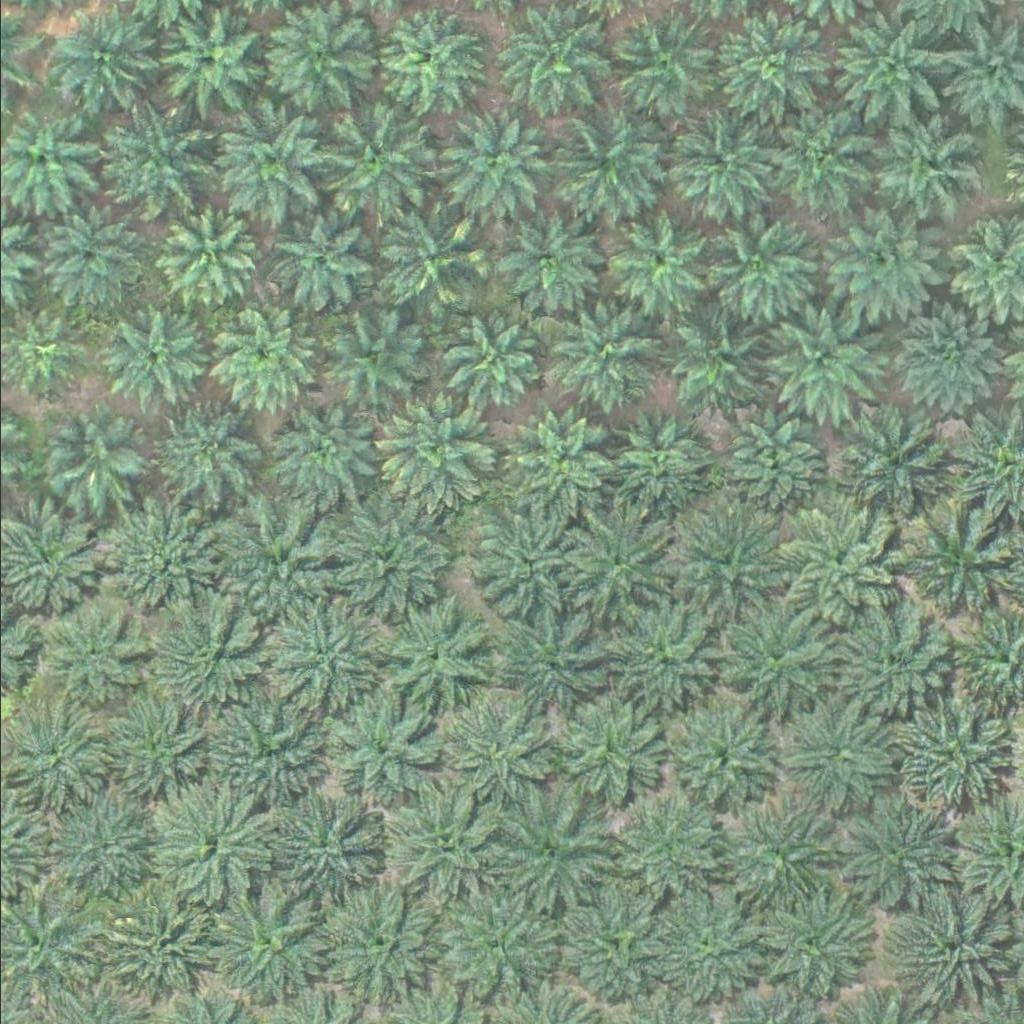Kelapa_Sawit: (831, 408, 957, 533), (761, 507, 887, 632), (202, 101, 328, 226), (378, 390, 504, 515), (261, 386, 387, 511), (320, 503, 446, 628), (209, 503, 335, 628), (833, 600, 959, 725), (895, 695, 1021, 820), (773, 697, 899, 822), (830, 794, 956, 919), (890, 886, 1016, 1011), (712, 793, 838, 918), (490, 603, 616, 728), (484, 790, 610, 915), (378, 779, 504, 904), (249, 787, 375, 912), (313, 880, 439, 1005), (431, 880, 557, 1005), (547, 887, 673, 1012), (631, 887, 757, 1012), (100, 500, 226, 625), (135, 591, 261, 716), (145, 783, 271, 908), (104, 891, 230, 1016), (754, 297, 879, 422), (560, 511, 685, 636), (258, 598, 383, 723), (824, 205, 938, 318), (870, 111, 984, 224), (757, 107, 871, 220), (494, 8, 608, 121), (713, 599, 827, 712), (604, 783, 718, 896), (33, 784, 147, 897), (899, 507, 1012, 620), (260, 2, 373, 115), (704, 210, 817, 323), (544, 299, 657, 412), (94, 102, 207, 215), (611, 604, 724, 717), (373, 595, 486, 708), (327, 695, 440, 808), (439, 696, 552, 809), (832, 8, 946, 120), (603, 10, 717, 122), (440, 106, 554, 218), (317, 104, 431, 216), (366, 201, 480, 313), (199, 301, 313, 413), (664, 701, 778, 813), (548, 696, 662, 808), (893, 300, 1006, 412), (719, 9, 832, 121), (664, 111, 777, 223), (544, 110, 657, 222), (501, 402, 614, 514), (465, 510, 578, 622), (207, 889, 320, 1001), (610, 211, 711, 311), (503, 209, 604, 309), (658, 310, 759, 410), (435, 311, 536, 411), (728, 416, 829, 516), (603, 411, 704, 511), (677, 517, 778, 617), (31, 208, 132, 308), (155, 13, 256, 113), (58, 6, 159, 106), (761, 897, 862, 997), (42, 603, 143, 703), (275, 215, 375, 315), (321, 305, 421, 405), (149, 402, 249, 502), (41, 410, 141, 510), (99, 309, 199, 409), (154, 206, 254, 306), (108, 692, 208, 792), (221, 702, 321, 801)
